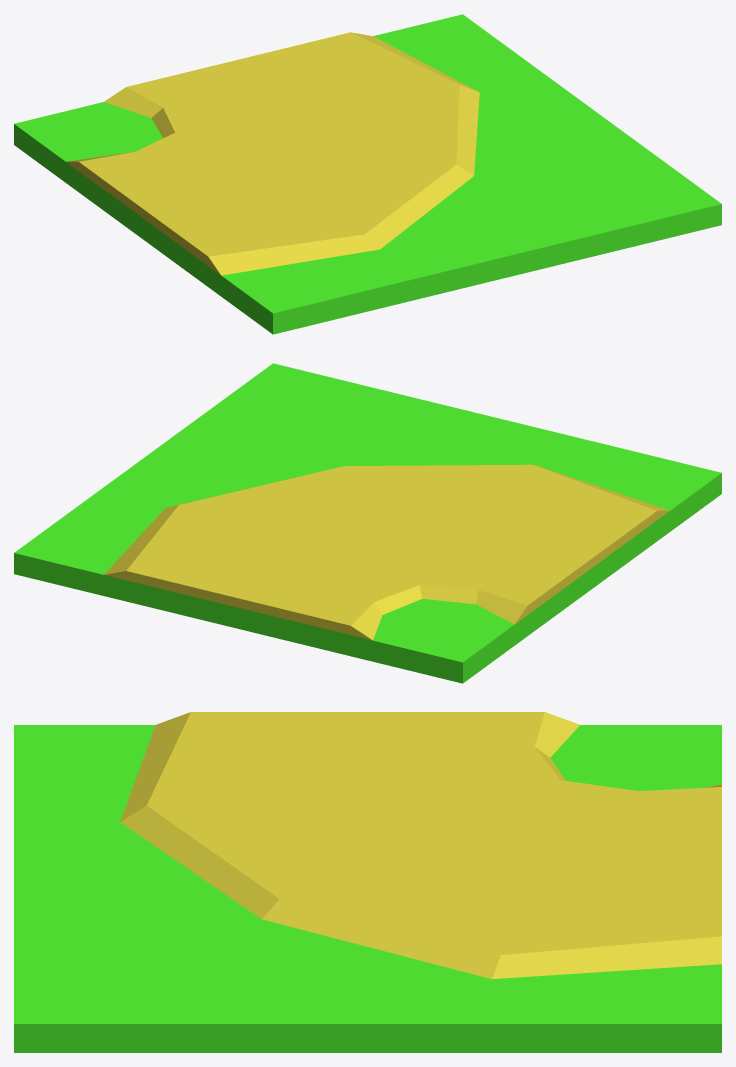
File: World1.3.fbx
3 renders of one model, top to bottom at view 1: azimuth 30°, elevation 25°; view 2: azimuth 150°, elevation 25°; view 3: azimuth 270°, elevation 25°, orthographic. The views are drawn at different scales.
Parts seen in each view (by area): view 1: Cube.123, Cube.124; view 2: Cube.123, Cube.124; view 3: Cube.124, Cube.123.
Boxes of the visible parts, x1=… form: Cube.123: x1=14, y1=14, x2=721, y2=334; Cube.124: x1=66, y1=32, x2=479, y2=275; Cube.123: x1=14, y1=363, x2=721, y2=683; Cube.124: x1=104, y1=464, x2=669, y2=640; Cube.124: x1=120, y1=712, x2=721, y2=978; Cube.123: x1=14, y1=725, x2=721, y2=1052.
Bounding box in the file's own units: 400 × 26.04 × 400.
